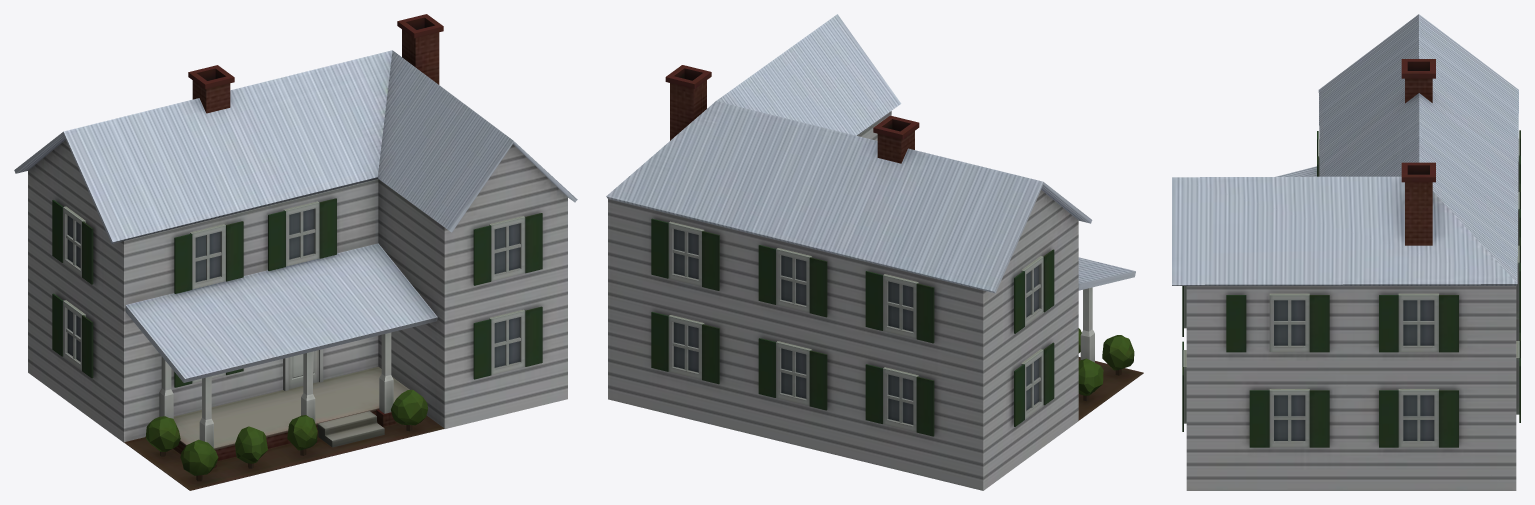
File: bHyQe5jzdiQ.glb
3 renders of one model, left to right at view 1: azimuth 30°, elevation 25°; view 2: azimuth 150°, elevation 25°; view 3: azimuth 270°, elevation 25°, orthographic. The views are drawn at different scales.
Parts seen in each view (by area): view 1: FarmHouse_Mesh; view 2: FarmHouse_Mesh; view 3: FarmHouse_Mesh.
Boxes of the visible parts, <box> form: FarmHouse_Mesh: <box>14,14,577,490</box>; FarmHouse_Mesh: <box>606,14,1143,490</box>; FarmHouse_Mesh: <box>1172,14,1520,490</box>.
Size of the model in its own units: 1.38 by 1 by 1.04.
Materials: 1 (1 with a texture image).
